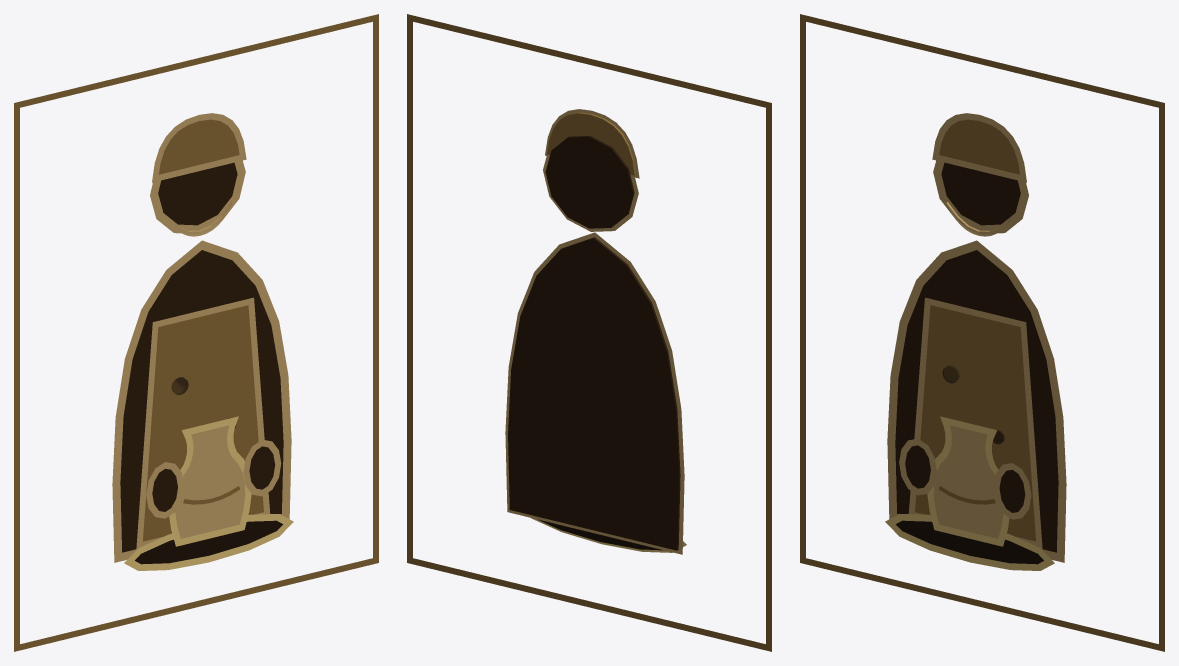
Rendered from npc-gonchar.glb.
3 renders of one model, left to right at view 1: azimuth 30°, elevation 25°; view 2: azimuth 150°, elevation 25°; view 3: azimuth 330°, elevation 25°, orthographic.
Visible parts, largest first — view 1: npc-gonchar; view 2: npc-gonchar; view 3: npc-gonchar.
Part boxes in pixels (box(x1,y1,x2,y2)): npc-gonchar: box(14, 14, 378, 651); npc-gonchar: box(407, 14, 771, 651); npc-gonchar: box(800, 14, 1164, 651).
Size of the model in its own units: 1.14 by 1.64 by 0.0979.
